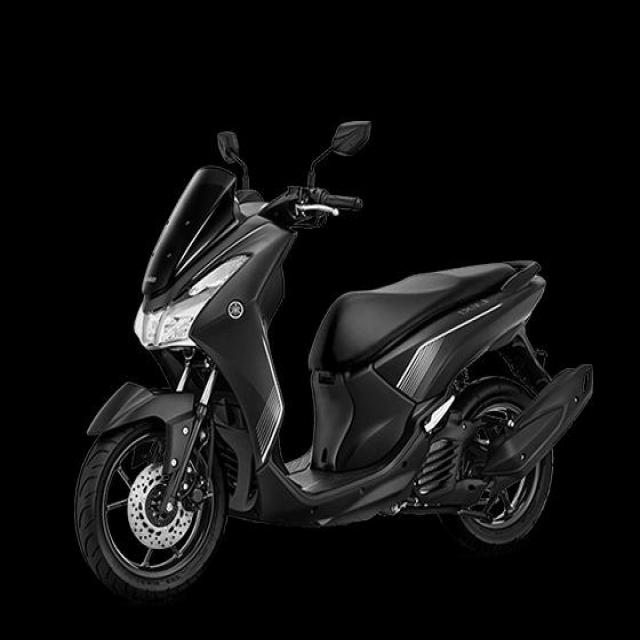Motorcycle: (76, 121, 594, 604)
